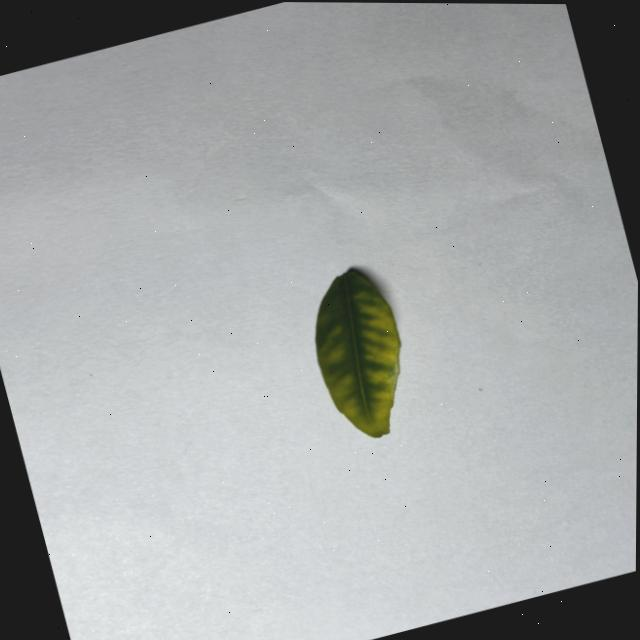greening: (314, 270, 399, 437)
